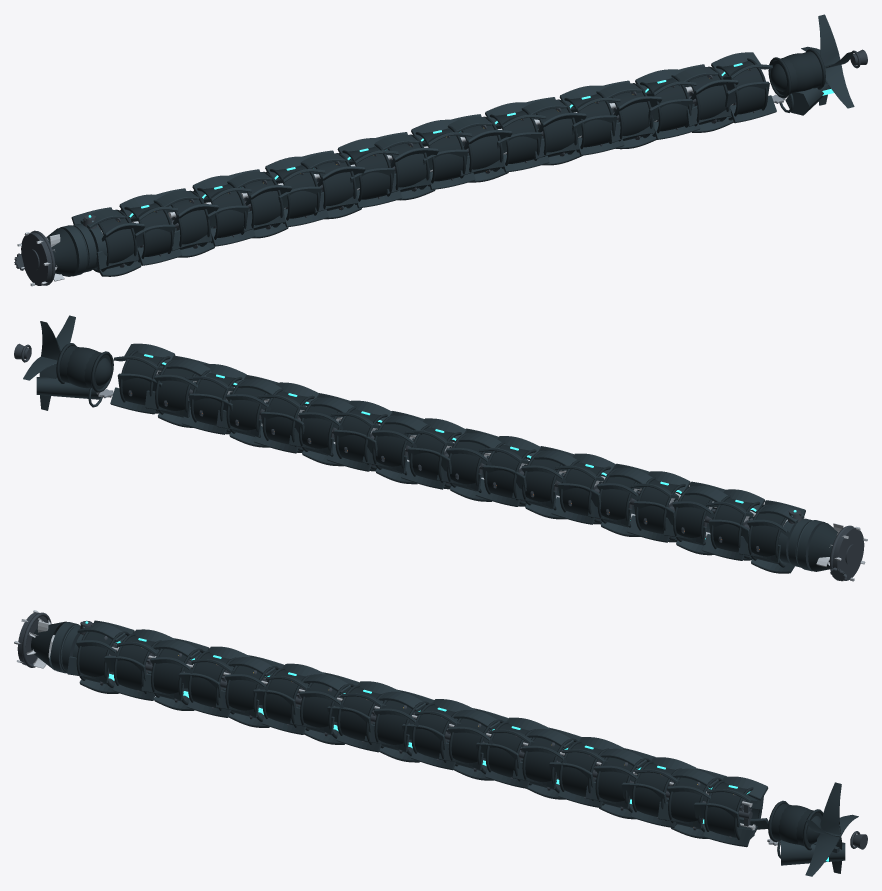
Rendered from abyss-salvager-ac-vii.glb.
The picture shows the model from 3 angles, top to bottom: view 1: azimuth 30°, elevation 25°; view 2: azimuth 150°, elevation 25°; view 3: azimuth 330°, elevation 25°; orthographic projection.
Parts seen in each view (by area): view 1: tail, head, segment-17, segment-15, segment-13, segment-5, segment-11, segment-0, segment-1, segment-16, segment-3, segment-9 (+8 smaller); view 2: tail, head, segment-5, segment-7, segment-9, segment-3, segment-1, segment-11, segment-17, segment-13, segment-0, segment-15 (+8 smaller); view 3: tail, segment-17, head, segment-0, segment-2, segment-4, segment-6, segment-8, segment-10, segment-5, segment-3, segment-7 (+8 smaller).
Boxes of the visible parts, <box> form: tail: <box>768,14,867,115</box>; head: <box>14,214,106,286</box>; segment-17: <box>711,52,776,123</box>; segment-15: <box>635,69,700,139</box>; segment-13: <box>559,85,624,155</box>; segment-5: <box>265,156,328,227</box>; segment-11: <box>485,102,549,172</box>; segment-0: <box>71,207,145,276</box>; segment-1: <box>119,194,181,265</box>; segment-16: <box>671,64,738,132</box>; segment-3: <box>192,175,255,246</box>; segment-9: <box>411,119,475,189</box>; tail: <box>14,315,113,410</box>; head: <box>778,509,867,581</box>; segment-5: <box>551,453,615,524</box>; segment-7: <box>475,436,541,506</box>; segment-9: <box>401,418,466,489</box>; segment-3: <box>627,471,690,542</box>; segment-1: <box>702,489,765,560</box>; segment-11: <box>326,400,392,471</box>; segment-17: <box>110,343,175,414</box>; segment-13: <box>253,382,319,453</box>; segment-0: <box>738,500,805,573</box>; segment-15: <box>181,364,247,434</box>; tail: <box>767,782,867,876</box>; segment-17: <box>694,776,768,847</box>; head: <box>14,610,93,673</box>; segment-0: <box>67,620,134,693</box>; segment-2: <box>141,638,209,710</box>; segment-4: <box>216,655,284,727</box>; segment-6: <box>290,672,359,744</box>; segment-8: <box>364,689,434,762</box>; segment-10: <box>439,708,508,780</box>; segment-5: <box>253,663,326,734</box>; segment-3: <box>178,646,250,717</box>; segment-7: <box>327,681,401,752</box>.
Size of the model in its own units: 22.68 by 2.3 by 2.2.
